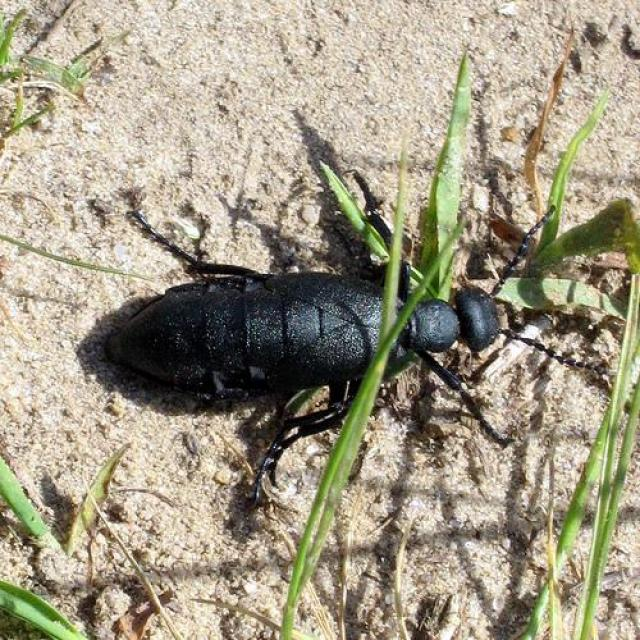BlisterBeetle-Adult-: (83, 192, 579, 459)
